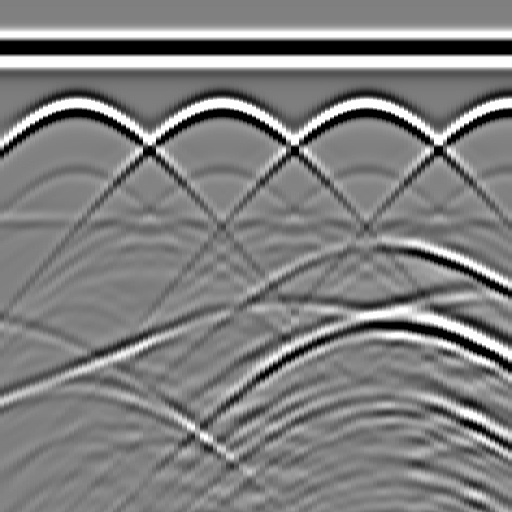grout_surface: (1, 207, 512, 237)
rebar: (55, 87, 95, 127), (199, 87, 239, 127), (344, 87, 384, 127), (488, 87, 512, 127)
rock_surface: (1, 295, 511, 391)
water_void: (358, 219, 418, 259)
